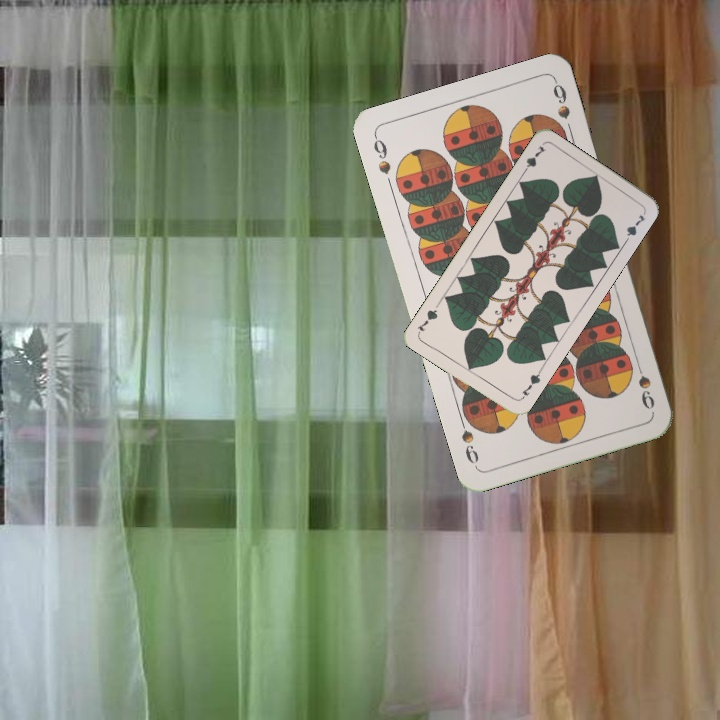G7: (518, 141, 549, 178), (516, 366, 543, 402)
S9: (631, 355, 657, 412), (369, 132, 394, 177)
